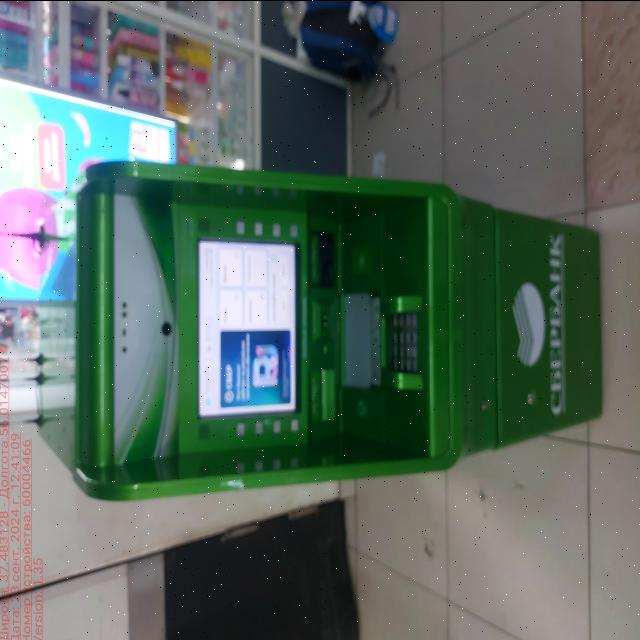bank: (40, 154, 604, 501)
